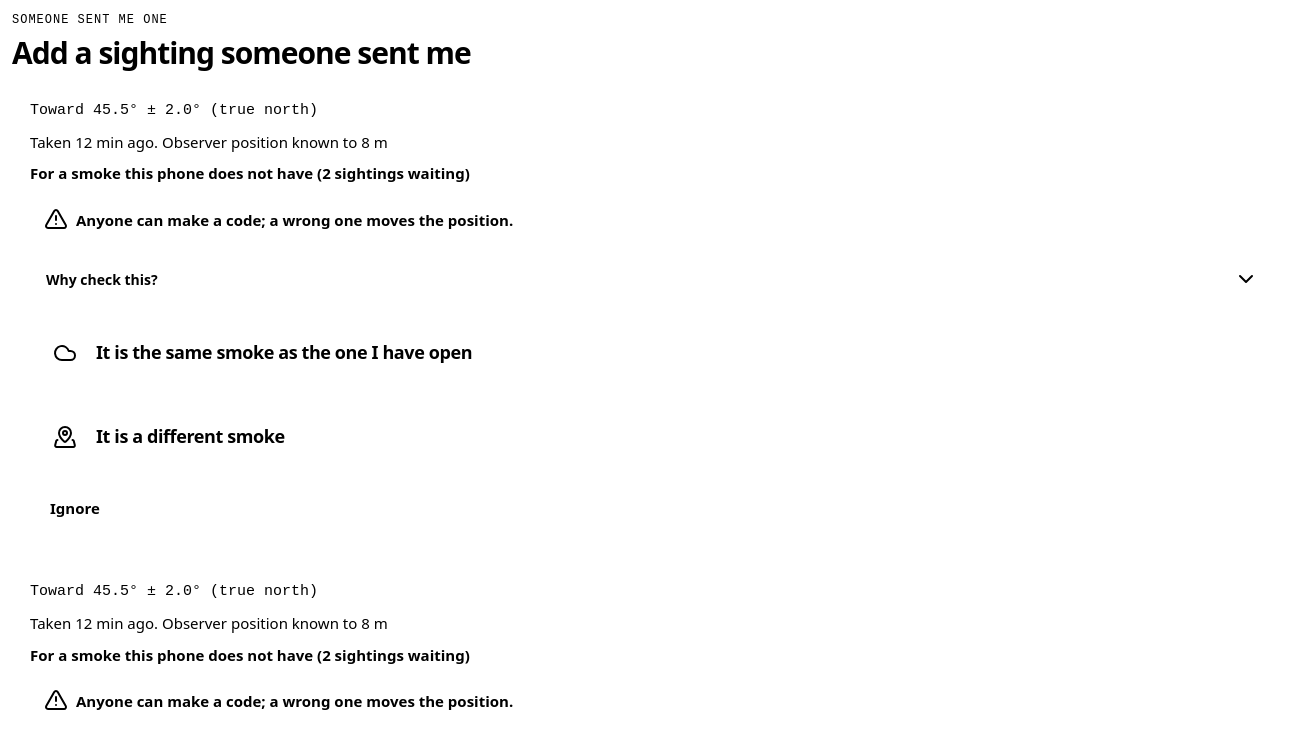
Test: a smoke this phone does not have (Req 4.2) › says so with how many of its sightings wait, and opens it only after one confirmation
Earlier steps of the test are not shown.
Expected: the 1st list item with test id "inbox-card" shows "For a smoke this phone does not have (2 sightings waiting)", x1=30 y1=163 x2=470 y2=183
Click the button "It is a different smoke" at (190, 436), box x1=30 y1=399 x2=1274 y2=475
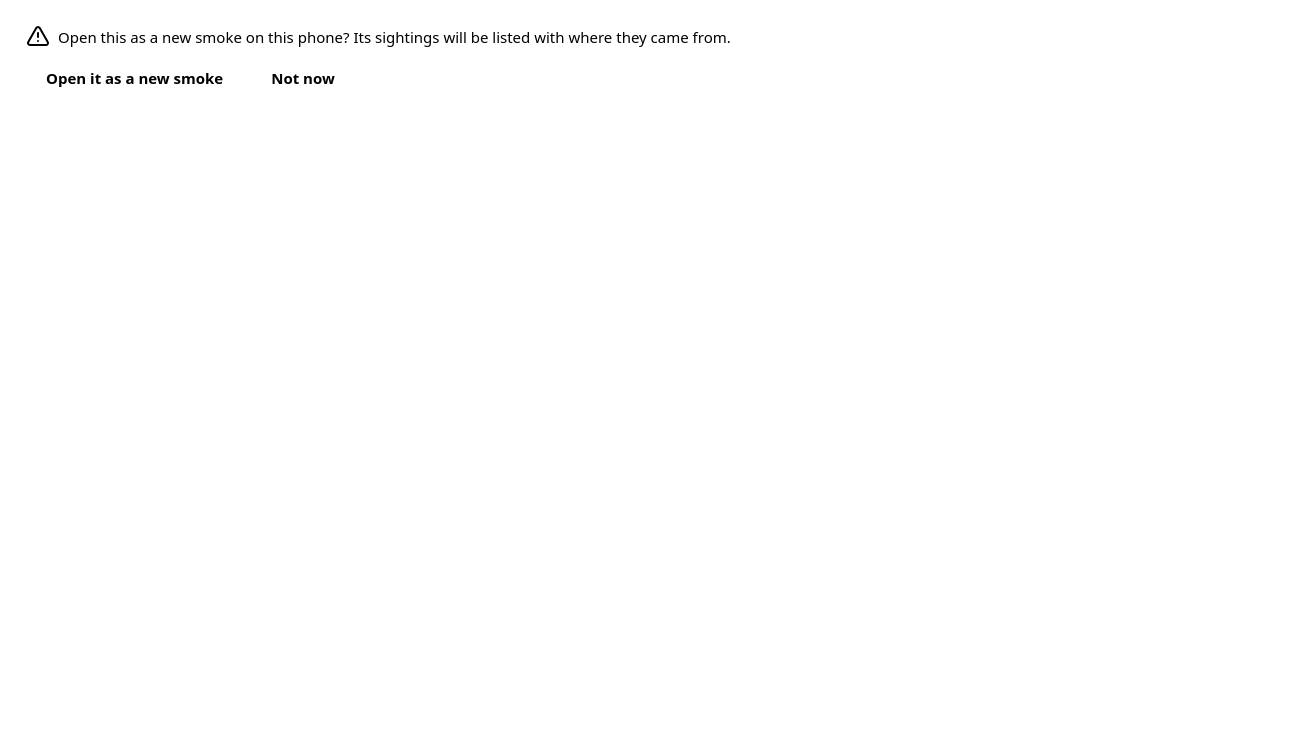
Click the button "Not now" at (303, 78), box x1=251 y1=53 x2=355 y2=103
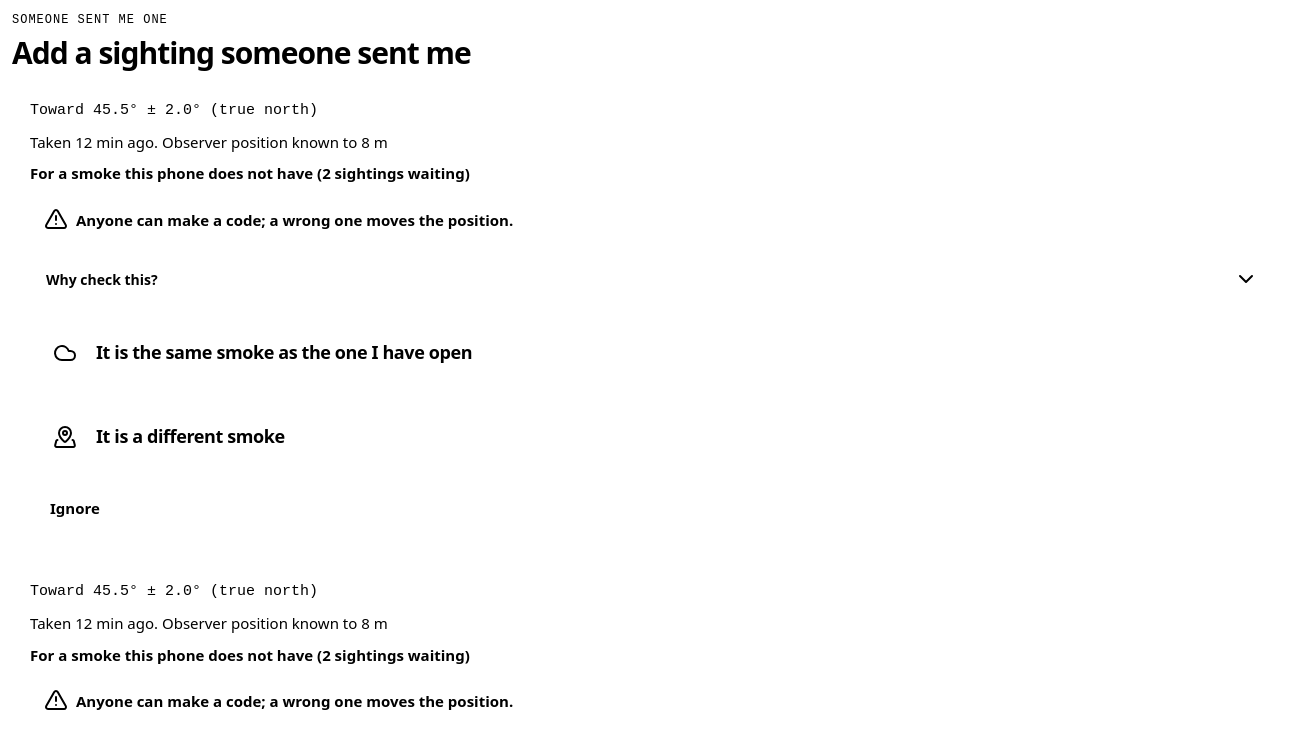
Click the button "It is a different smoke" at (190, 436), box x1=30 y1=399 x2=1274 y2=475
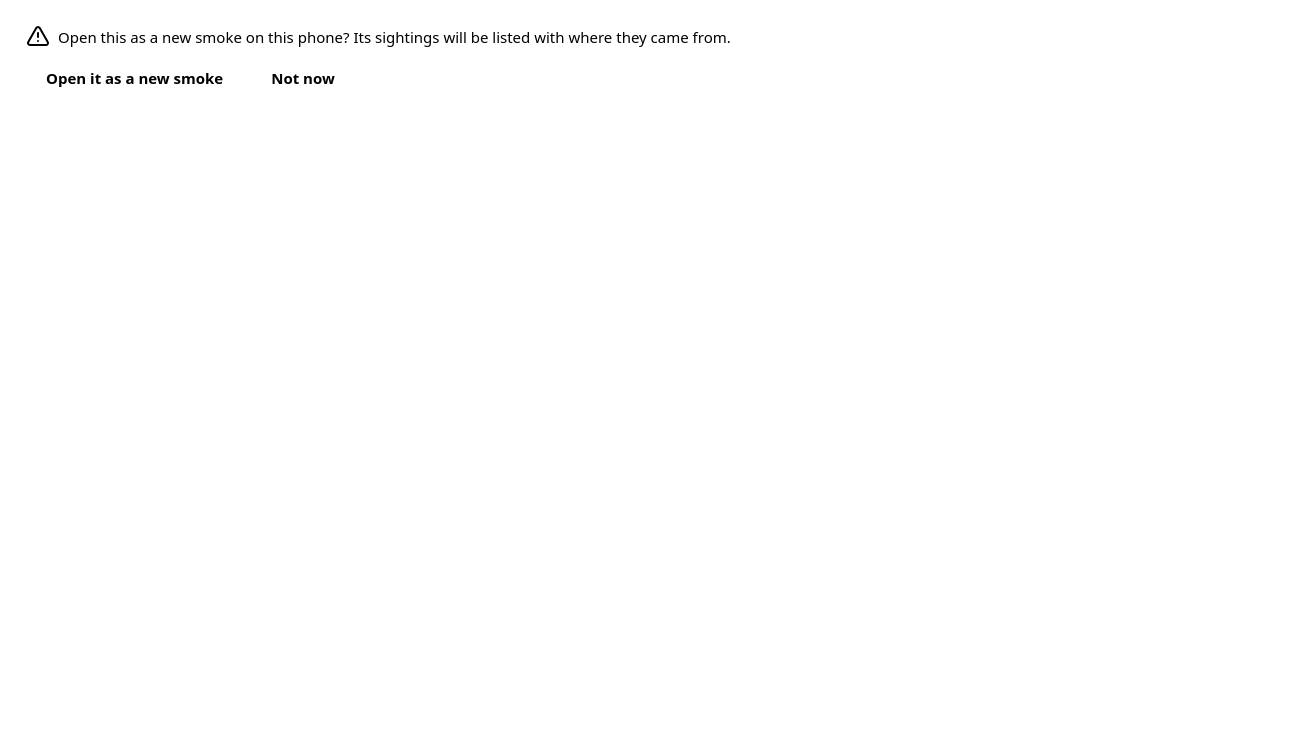
Click the button "Open it as a new smoke" at (135, 78), box x1=26 y1=53 x2=243 y2=103
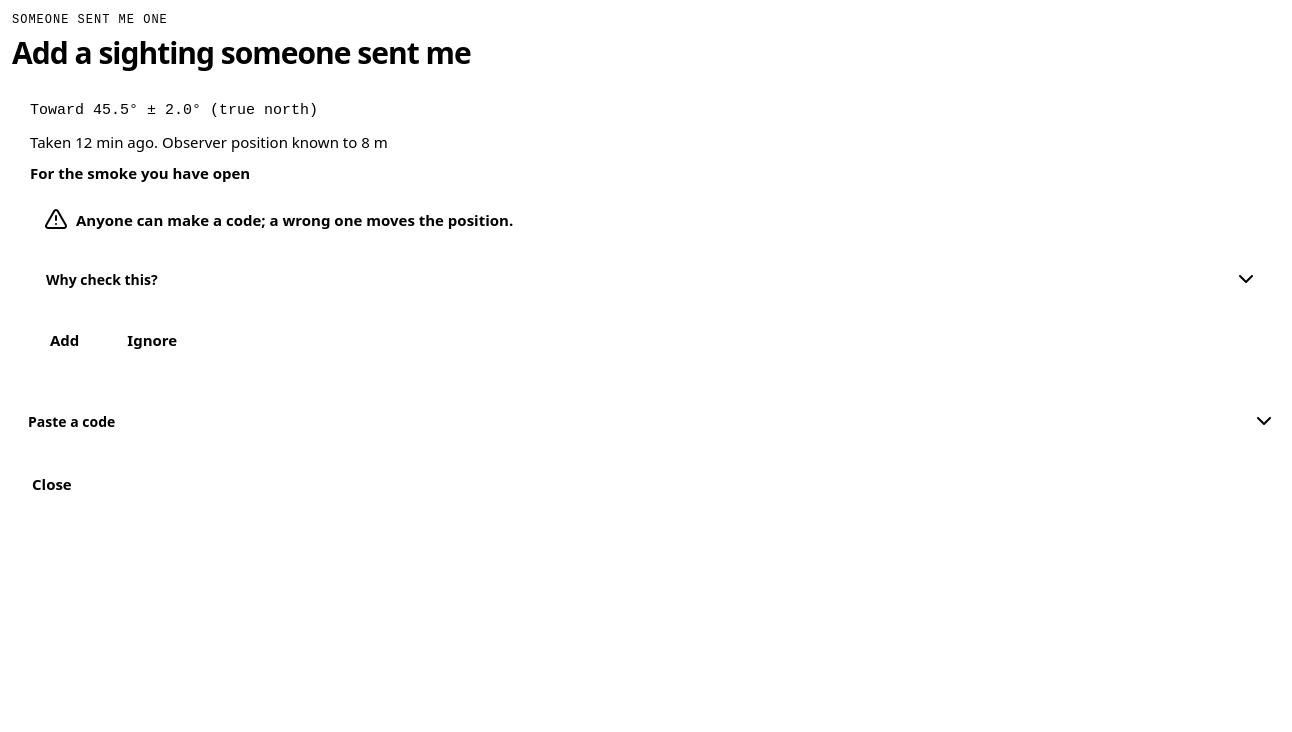
Expected: the list item with test id "inbox-card" shows "For the smoke you have open", x1=30 y1=163 x2=250 y2=183
